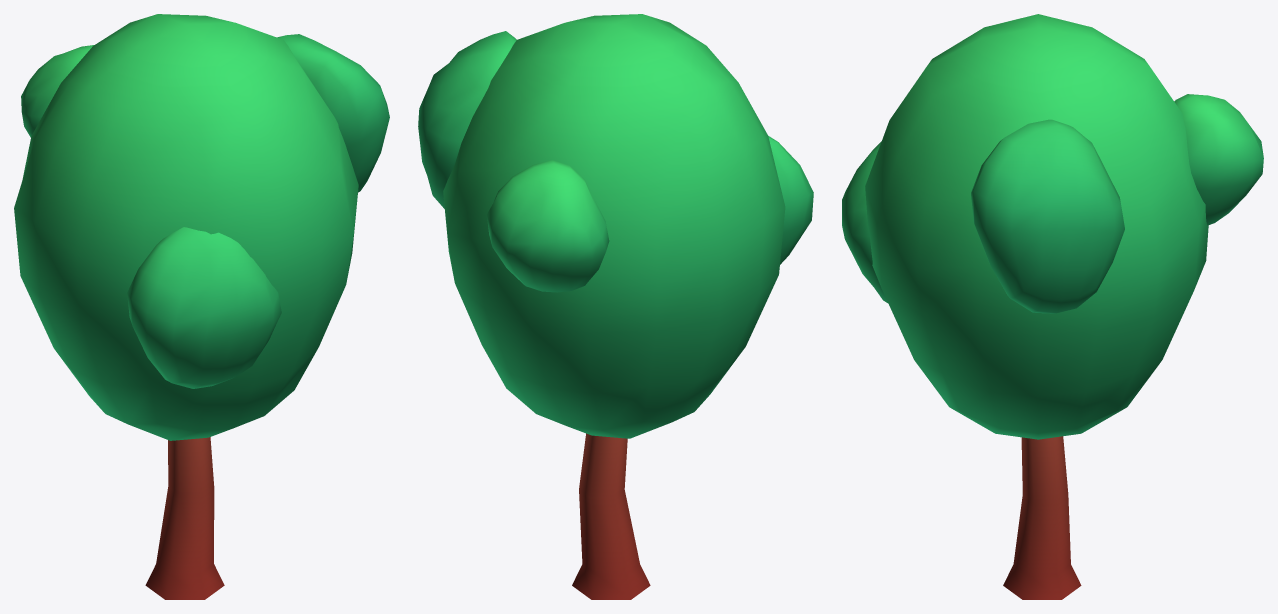
The model's file is [OBJ]Arvore_2.fbx.
The picture shows the model from 3 angles, left to right: view 1: azimuth 30°, elevation 25°; view 2: azimuth 150°, elevation 25°; view 3: azimuth 270°, elevation 25°; orthographic projection.
Visible parts, largest first — view 1: [OBJ]Arvore_2; view 2: [OBJ]Arvore_2; view 3: [OBJ]Arvore_2.
Boxes of the visible parts, bbox=[...] form: [OBJ]Arvore_2: bbox=[14, 14, 389, 599]; [OBJ]Arvore_2: bbox=[418, 14, 813, 599]; [OBJ]Arvore_2: bbox=[842, 14, 1263, 599].
Size of the model in its own units: 213 by 338 by 231.
